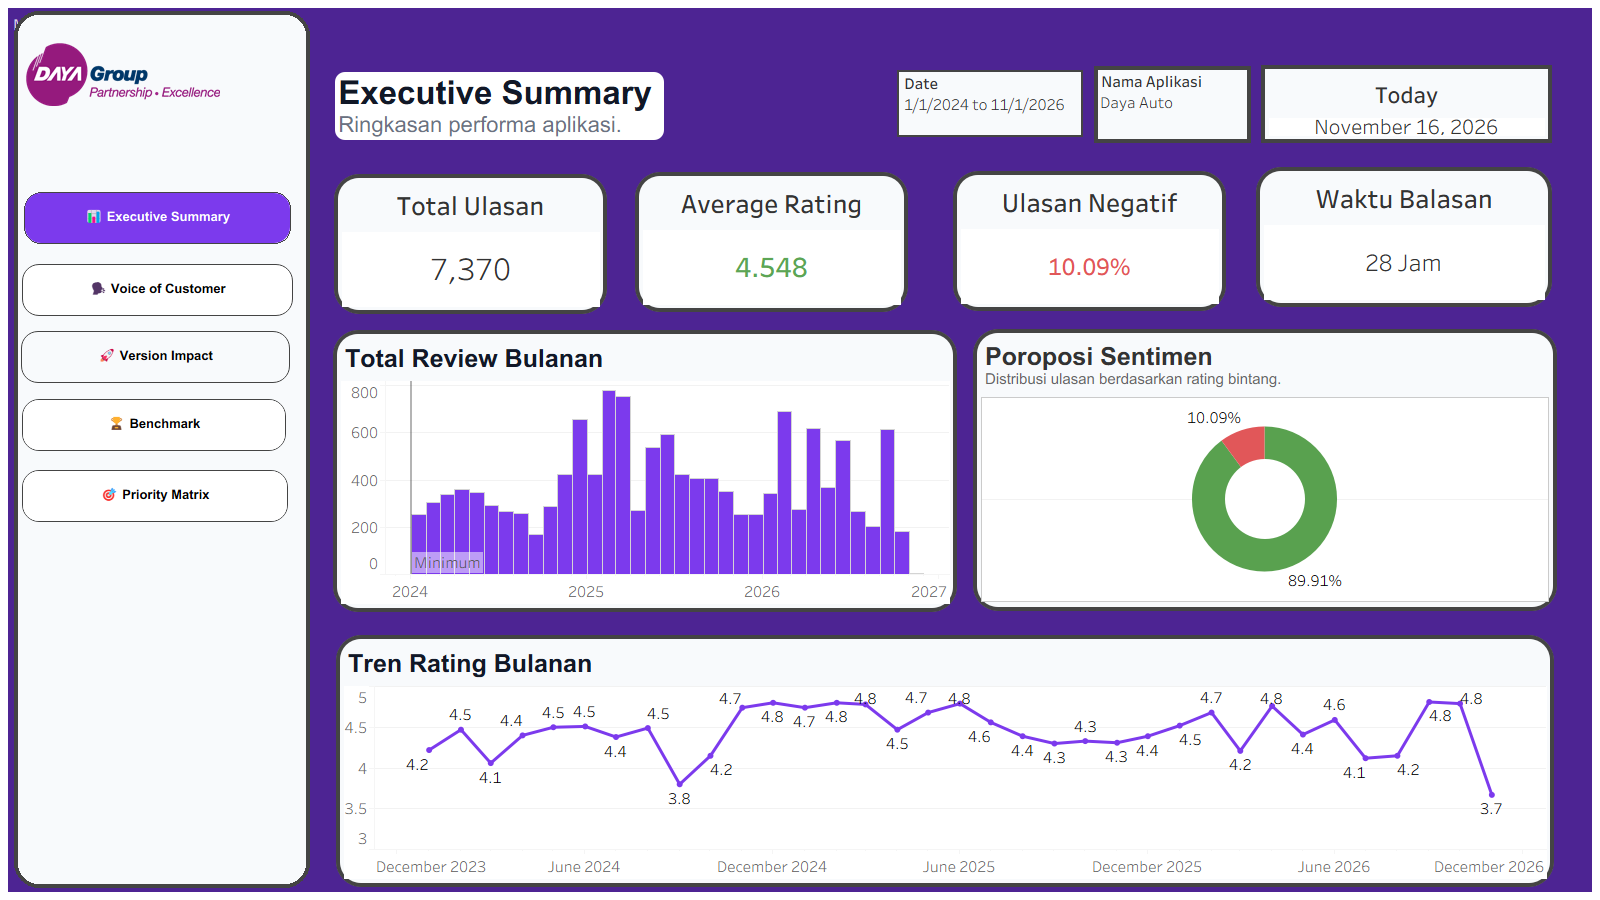

The page's visual inventory and layout, read from the dashboard file:
{"tool":"tableau","page":{"name":"Executive Summary","canvas":[1600,900],"ordinal":1},"visuals":[{"type":"legend","title":"Donut Chart fIX","param":"[federated.1ne9uls14glvxb198g2bg04afmw0].[:Measure Names]","box":[8,8,1584,72]},{"type":"image","param":"C:/Users/hp/Downloads/LOGO-DAYA-GROUP-WEBSITE.png","box":[25.6,42.8,272,63]},{"type":"filter","title":"Line Chart","param":"[federated.1ne9uls14glvxb198g2bg04afmw0].[none:app_name:nk]","box":[1096,68,153,73]},{"type":"worksheet","title":"Today Card","mark":"Automatic","box":[1265,69,283,70]},{"type":"text","box":[335,72,329,68]},{"type":"filter","title":"Line Chart","param":"[federated.1ne9uls14glvxb198g2bg04afmw0].[none:review_month:qk]","box":[901,72,174,63]},{"type":"worksheet","title":"Repply Card","mark":"Automatic","box":[1260,171,288,132]},{"type":"worksheet","title":"Ulasan Negatif Card","mark":"Automatic","box":[957,175,265,132]},{"type":"worksheet","title":"Average Rating Card ","mark":"Automatic","box":[639,176,265,132]},{"type":"worksheet","title":"Total Ulasan","mark":"Automatic","box":[338,178,265,132]},{"type":"dashboard-object","box":[24,192.4,267.2,51.7]},{"type":"dashboard-object","box":[22.4,264.4,270.4,51.7]},{"type":"dashboard-object","box":[20.8,330.8,268.8,51.7]},{"type":"worksheet","title":"Donut Chart fIX","mark":"Automatic","rows":["Calculation_0900563131899904","Calculation_0900563131899904"],"box":[976.8,332.5,576,274.4]},{"type":"worksheet","title":"Bar Chart","mark":"Bar","rows":["n_reviews"],"cols":["review_month"],"box":[336.8,333.6,616,274.4]},{"type":"dashboard-object","box":[22.4,399.4,264,51.7]},{"type":"dashboard-object","box":[22.4,470.2,265.6,51.7]},{"type":"worksheet","title":"Line Chart","mark":"Automatic","rows":["Calculation_0269718123732992"],"cols":["review_month"],"box":[340,639,1210,244]}]}

Visuals, with their boxes in screenshot pixels (x1, y1, x2, y2), scaled from the page's 1600x900 canvas onto the 1600x900 screenshot:
"Donut Chart fIX" legend: region(8, 8, 1592, 80)
image: region(26, 43, 298, 106)
"Line Chart" filter: region(1096, 68, 1249, 141)
"Today Card" worksheet: region(1265, 69, 1548, 139)
text: region(335, 72, 664, 140)
"Line Chart" filter: region(901, 72, 1075, 135)
"Repply Card" worksheet: region(1260, 171, 1548, 303)
"Ulasan Negatif Card" worksheet: region(957, 175, 1222, 307)
"Average Rating Card " worksheet: region(639, 176, 904, 308)
"Total Ulasan" worksheet: region(338, 178, 603, 310)
dashboard-object: region(24, 192, 291, 244)
dashboard-object: region(22, 264, 293, 316)
dashboard-object: region(21, 331, 290, 382)
"Donut Chart fIX" worksheet: region(977, 332, 1553, 607)
"Bar Chart" worksheet (Bar marks): region(337, 334, 953, 608)
dashboard-object: region(22, 399, 286, 451)
dashboard-object: region(22, 470, 288, 522)
"Line Chart" worksheet: region(340, 639, 1550, 883)
